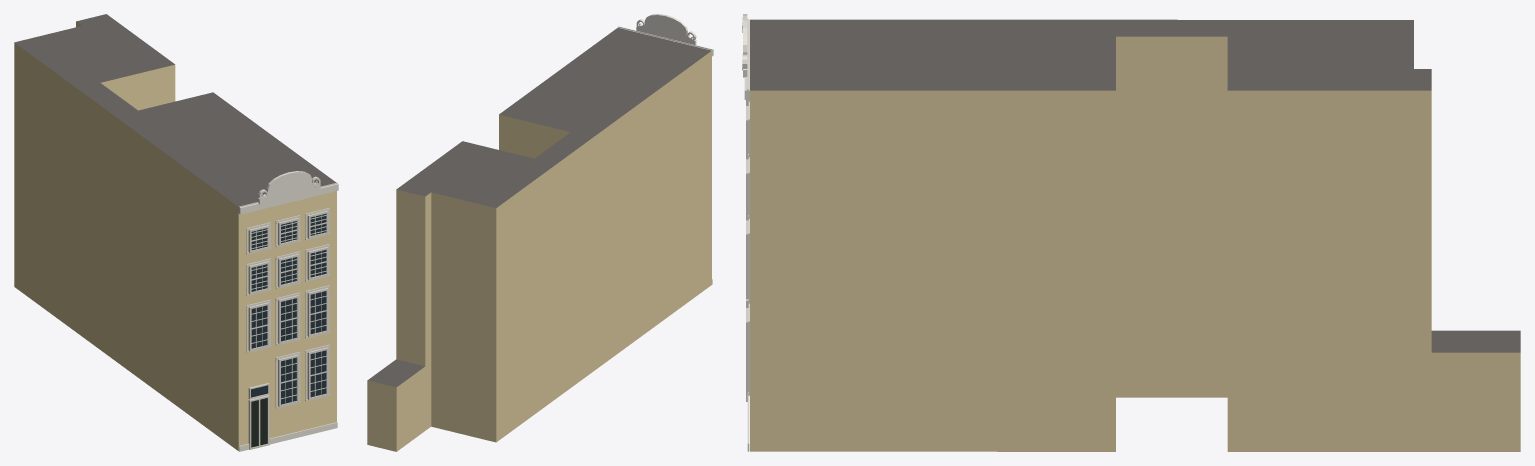
3 renders of one model, left to right at view 1: azimuth 30°, elevation 25°; view 2: azimuth 150°, elevation 25°; view 3: azimuth 270°, elevation 25°, orthographic. The views are drawn at different scales.
Visible parts, largest first — view 1: spec-0363100012169444; view 2: spec-0363100012169444; view 3: spec-0363100012169444.
Part boxes in pixels (left/top/right/bottom): spec-0363100012169444: left=14, top=14, right=338, bottom=451; spec-0363100012169444: left=367, top=14, right=713, bottom=451; spec-0363100012169444: left=742, top=14, right=1520, bottom=451.
Bounding box in the file's own units: 5.65 × 14.66 × 26.13.
